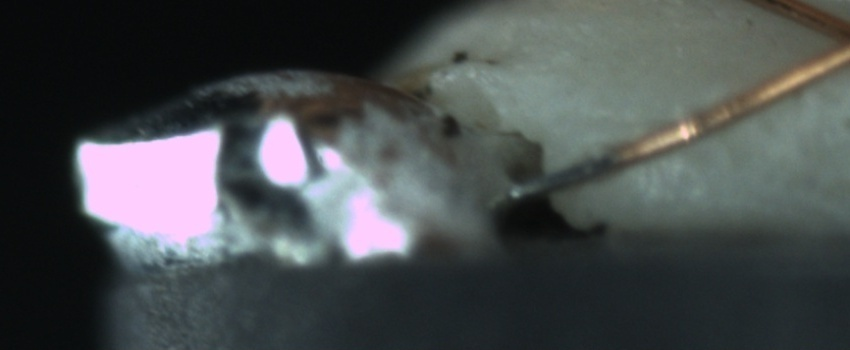CL: (804, 6, 850, 81)
TS: (509, 152, 620, 199)
TTCW: (506, 143, 636, 198)
